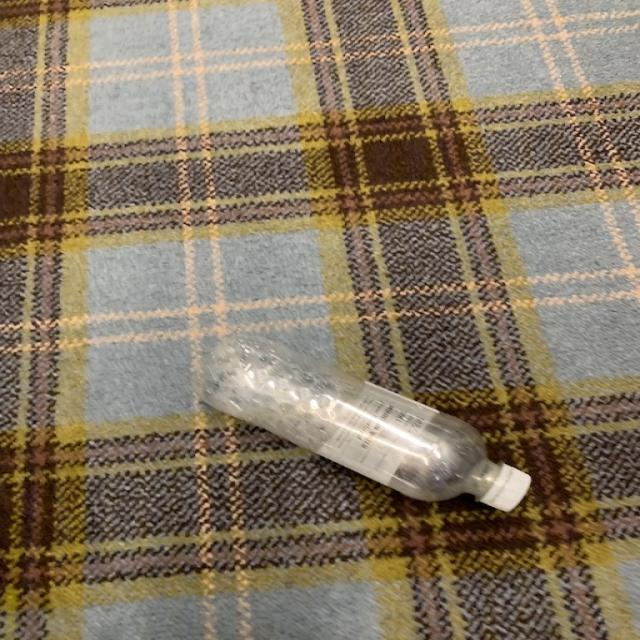Waste: (196, 337, 532, 512)
